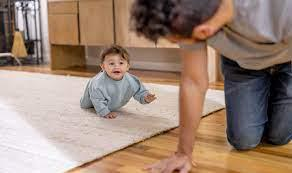child: (74, 43, 158, 120)
